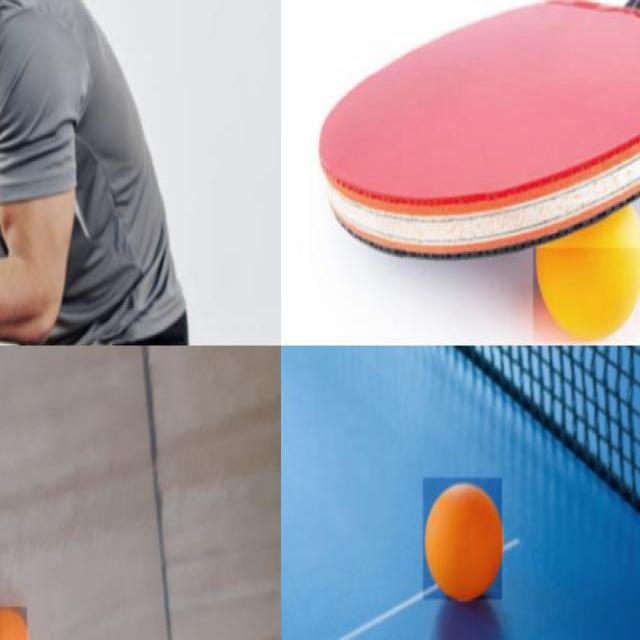ping-pong-ball: (532, 248, 639, 345), (423, 478, 503, 601), (0, 607, 28, 638)
